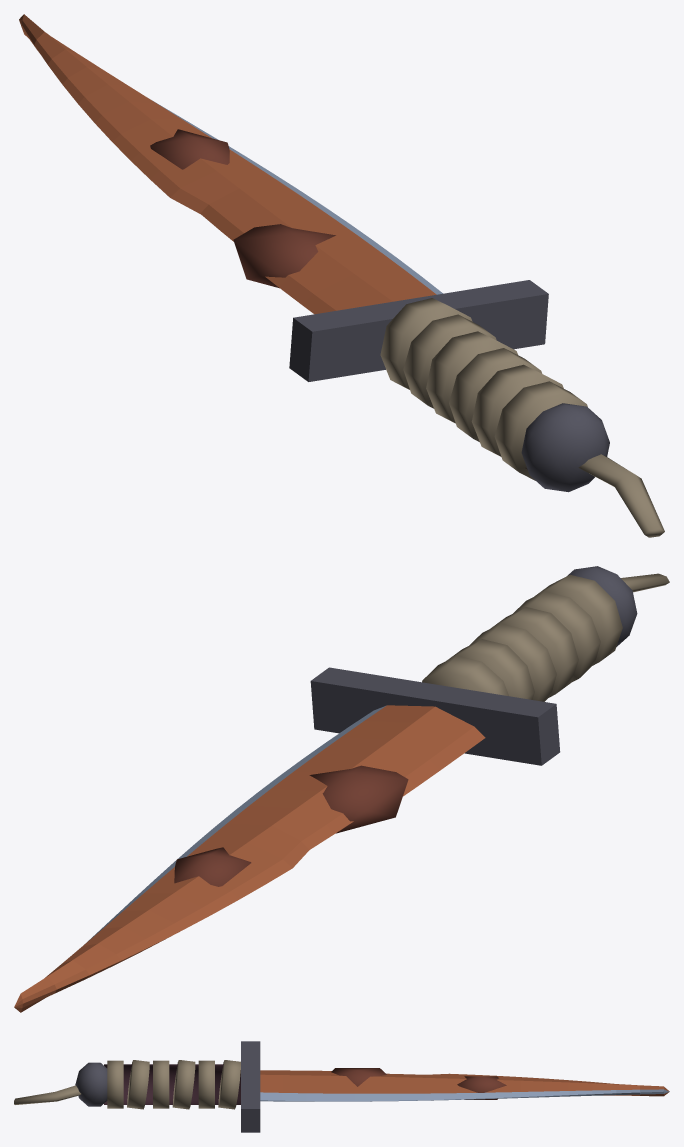
The model's file is weapon_rusty_dagger.glb.
3 renders of one model, top to bottom at view 1: azimuth 30°, elevation 25°; view 2: azimuth 150°, elevation 25°; view 3: azimuth 270°, elevation 25°, orthographic. The views are drawn at different scales.
Visible parts, largest first — view 1: piece; view 2: piece; view 3: piece.
Boxes of the visible parts, x1,y1,x2,y2 form: piece: (19, 14, 664, 537); piece: (14, 566, 669, 1012); piece: (14, 1041, 669, 1132).
Size of the model in its own units: 0.1013 by 0.035 by 0.4788.
